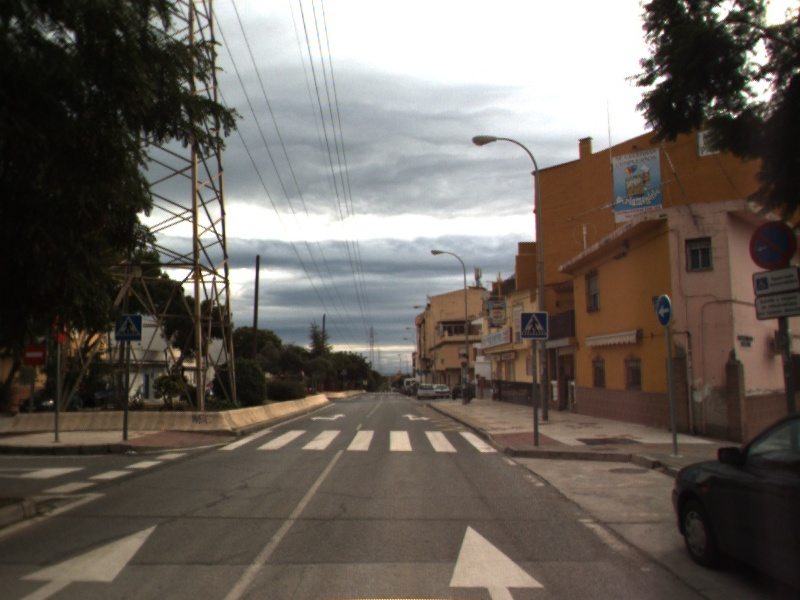STRAIGHT: (13, 521, 162, 600), (447, 523, 546, 600)
STRAIGHT_LEFT: (308, 411, 348, 423)
STRAIGHT_RIGHT: (400, 411, 433, 422)
